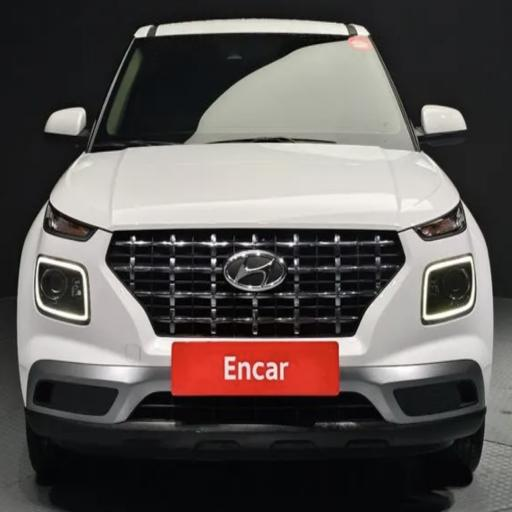normal: (13, 13, 502, 501)
